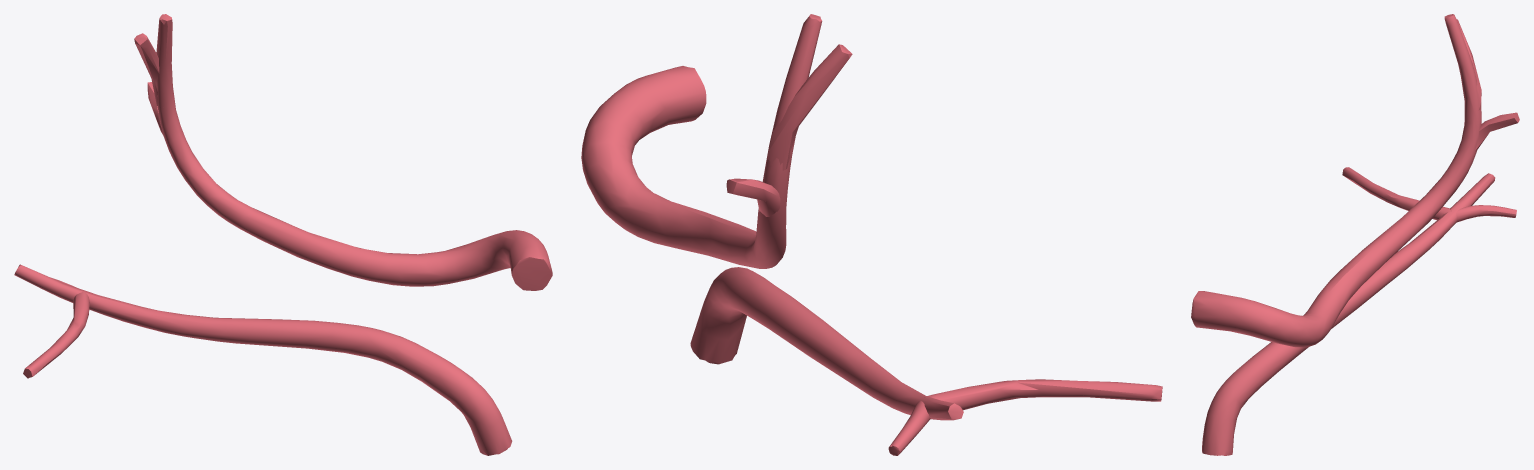
The model's file is fma8619_cx256.glb.
The picture shows the model from 3 angles, left to right: view 1: azimuth 30°, elevation 25°; view 2: azimuth 150°, elevation 25°; view 3: azimuth 270°, elevation 25°; orthographic projection. The views are drawn at different scales.
Visible parts, largest first — view 1: FMA8619_CX256; view 2: FMA8619_CX256; view 3: FMA8619_CX256.
Part boxes in pixels (x1,y1,x2,y2): FMA8619_CX256: (14,14,552,455); FMA8619_CX256: (581,14,1162,455); FMA8619_CX256: (1191,14,1519,455).
Size of the model in its own units: 0.0766 by 0.062 by 0.0523.
